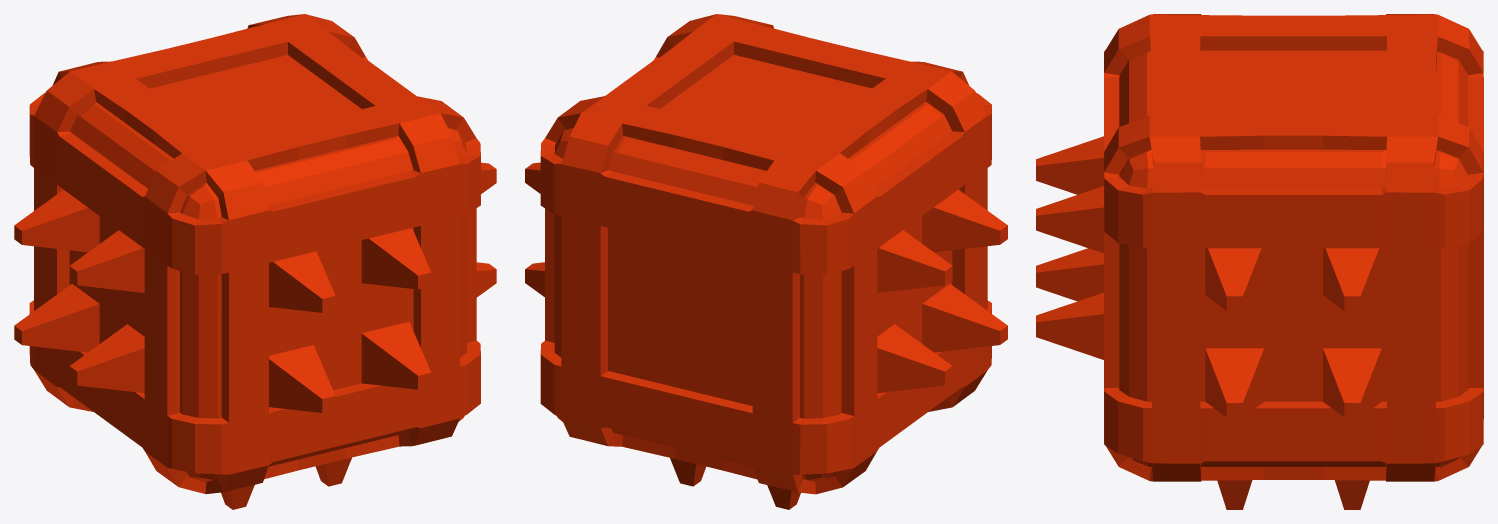
Rendered from dangerous-falling-box.fbx.
3 renders of one model, left to right at view 1: azimuth 30°, elevation 25°; view 2: azimuth 150°, elevation 25°; view 3: azimuth 270°, elevation 25°, orthographic. The views are drawn at different scales.
Visible parts, largest first — view 1: danger_box; view 2: danger_box; view 3: danger_box.
Boxes of the visible parts, x1,y1,x2,y2 form: danger_box: (14,14,496,509); danger_box: (525,14,1007,509); danger_box: (1036,14,1483,509).
Size of the model in its own units: 153 by 133 by 133.
